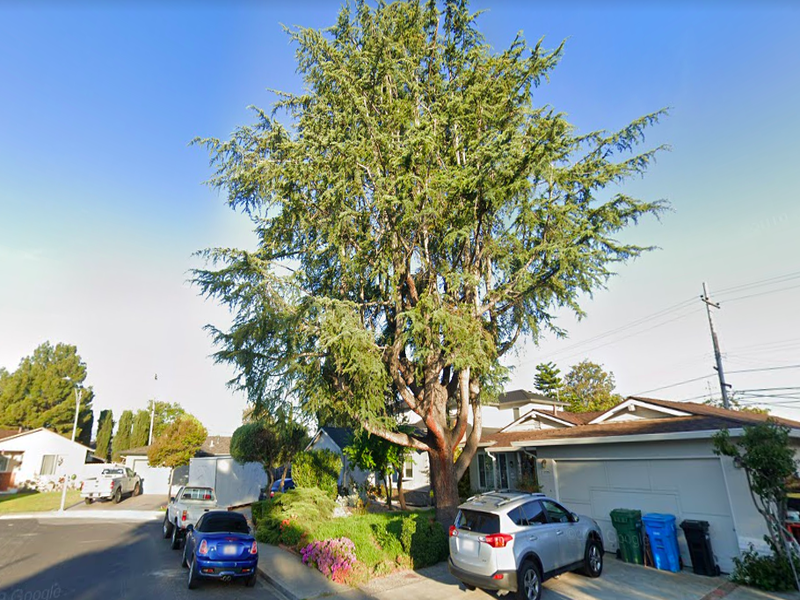tree: (186, 3, 673, 536)
